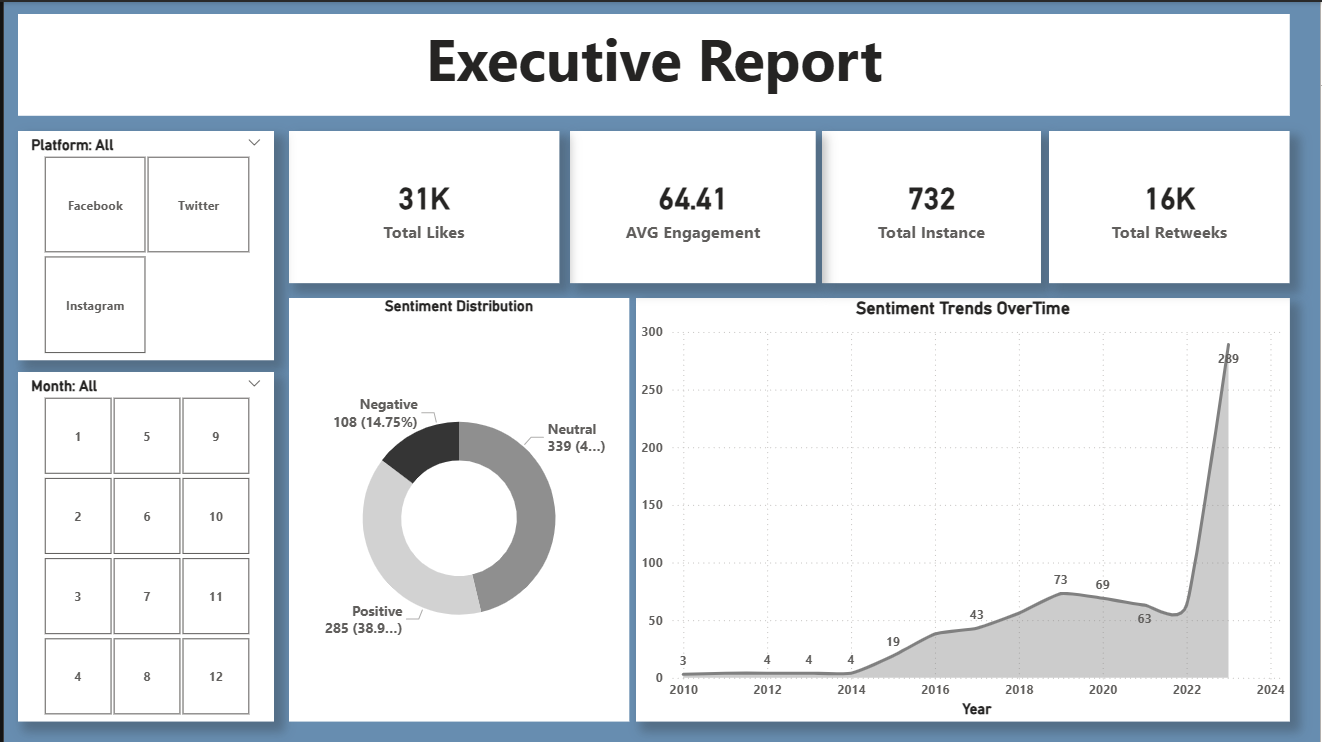

This screenshot's page, from the dashboard's own definition file:
{"tool":"powerbi","page":{"name":"Executive Overview","canvas":[1280,720],"ordinal":0},"visuals":[{"type":"lineChart","title":"Sentiment Trends OverTime","fields":{"Y":["CountNonNull(Sentiment.Sentiment)"],"Category":["Sentiment.Year"]},"box":[555.4,340.4,714.9,359.9],"z":0},{"type":"card","fields":{"Values":["Sentiment.Total Instance"]},"box":[32.1,42.8,206.2,78.8],"z":1},{"type":"card","fields":{"Values":["Sentiment.Total Engagement"]},"box":[262.6,42.8,250,82.7],"z":2},{"type":"card","fields":{"Values":["Sentiment.Total Likes"]},"box":[32.1,167.3,206.2,86.6],"z":3},{"type":"card","fields":{"Values":["Sentiment.Total Retweeks"]},"box":[262.6,169.2,250,84.6],"z":4},{"type":"slicer","fields":{"Values":["Sentiment.Platform"]},"box":[885.1,42.8,377.4,106],"z":5}]}

Visuals, with their boxes in screenshot pixels (x1, y1, x2, y2), scaled from the page's 1280x720 canvas onto the 1322x742 screenshot:
"Sentiment Trends OverTime" lineChart: bbox(574, 351, 1312, 722)
card - Sentiment.Total Instance: bbox(33, 44, 246, 125)
card - Sentiment.Total Engagement: bbox(271, 44, 529, 129)
card - Sentiment.Total Likes: bbox(33, 172, 246, 262)
card - Sentiment.Total Retweeks: bbox(271, 174, 529, 262)
slicer - Sentiment.Platform: bbox(914, 44, 1304, 153)
